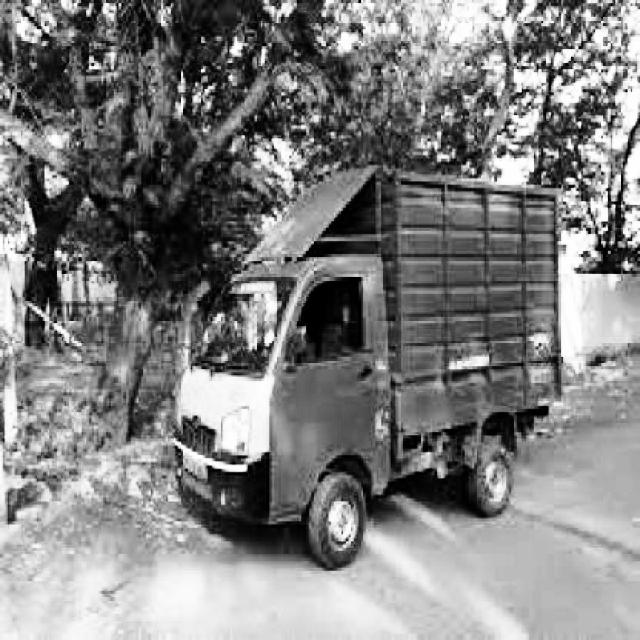LCV: (175, 150, 571, 556)
